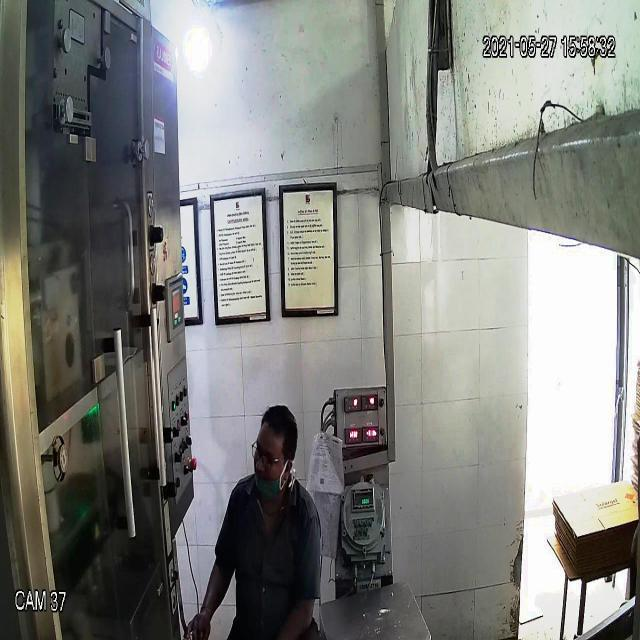glasses: (246, 432, 290, 474)
